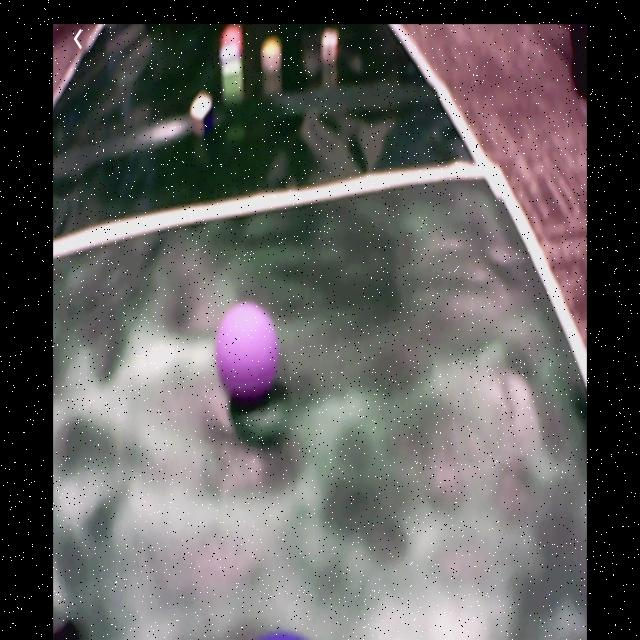ball: (218, 303, 279, 401), (249, 623, 326, 640)
